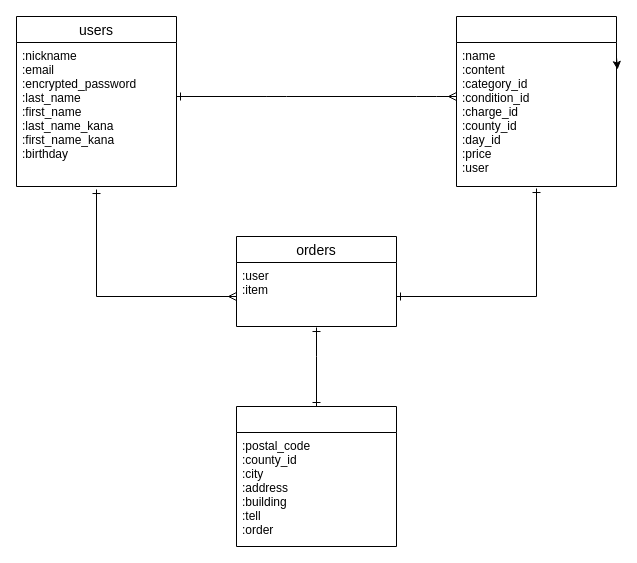
Image size: 637x563. Some labels were removed from this diagram. Each missing label, with the box of its shape:
addresses: (236, 406, 396, 546)
items: (456, 16, 616, 186)
